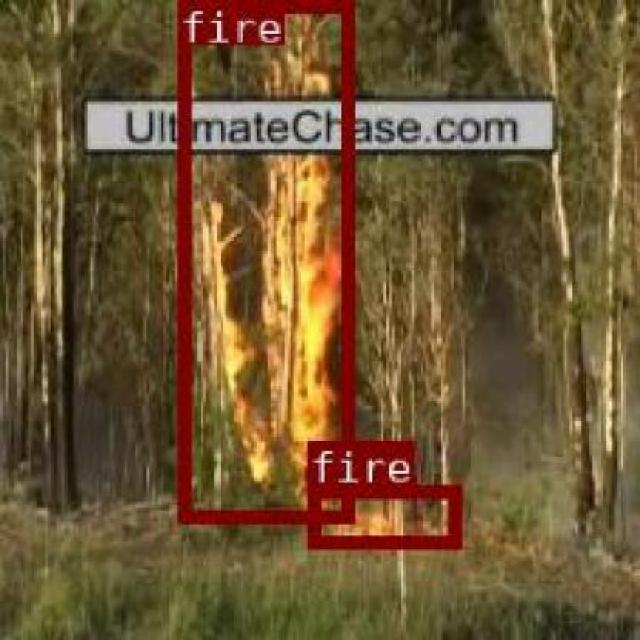fire: (175, 0, 352, 518), (307, 484, 458, 546)
